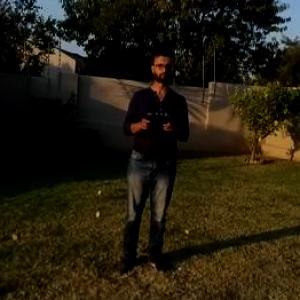follow: (106, 41, 194, 285)
